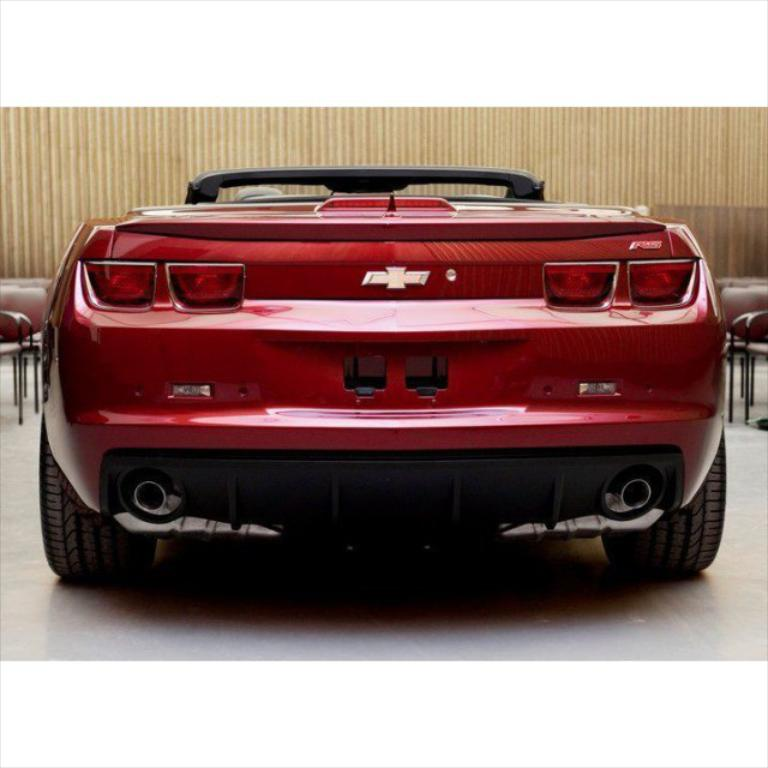Car: (28, 142, 754, 607)
